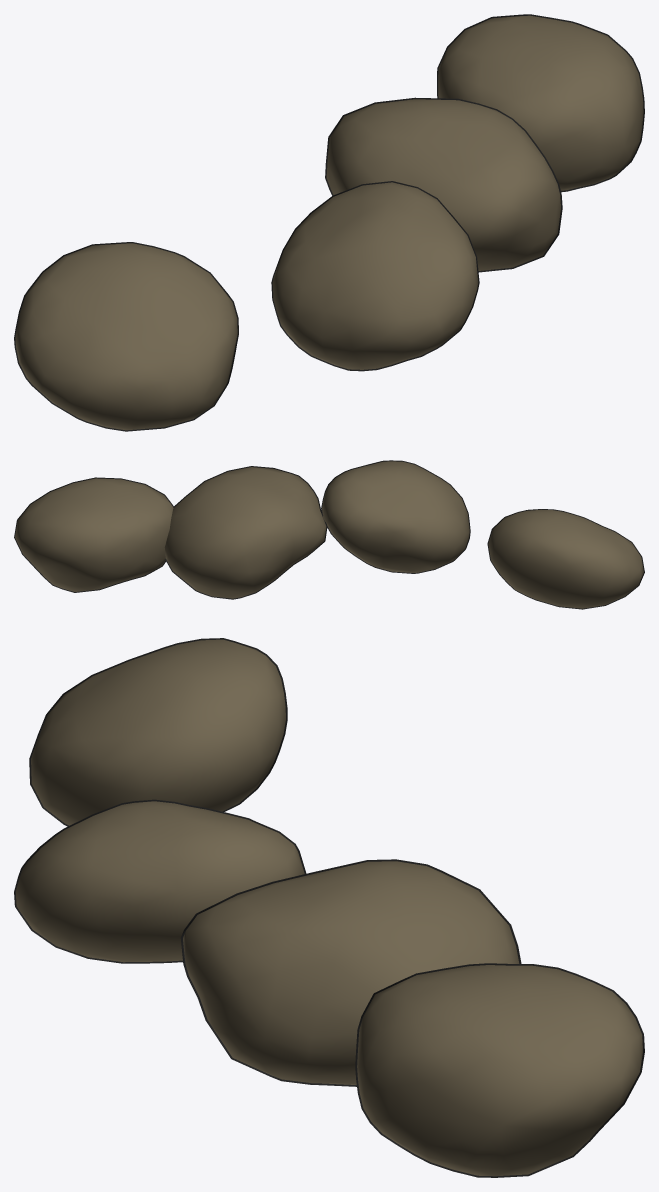
The model's file is lettucerocks.fbx.
The picture shows the model from 3 angles, top to bottom: view 1: azimuth 30°, elevation 25°; view 2: azimuth 150°, elevation 25°; view 3: azimuth 270°, elevation 25°; orthographic projection. The views are drawn at different scales.
Visible parts, largest first — view 1: Lettuce_Clod_10, Lettuce_Clod_11, Lettuce_Clod_12, Lettuce_Clod_00; view 2: Lettuce_Clod_12, Lettuce_Clod_00, Lettuce_Clod_11, Lettuce_Clod_10; view 3: Lettuce_Clod_00, Lettuce_Clod_12, Lettuce_Clod_10, Lettuce_Clod_11.
Part boxes in pixels (x1,y1,x2,y2): Lettuce_Clod_10: (14,242,238,431); Lettuce_Clod_11: (271,181,479,371); Lettuce_Clod_12: (325,97,562,272); Lettuce_Clod_00: (437,14,644,192); Lettuce_Clod_12: (164,466,327,599); Lettuce_Clod_00: (14,477,174,592); Lettuce_Clod_11: (321,460,470,573); Lettuce_Clod_10: (487,509,644,609); Lettuce_Clod_00: (355,963,644,1177); Lettuce_Clod_12: (180,859,521,1086); Lettuce_Clod_10: (29,638,287,826); Lettuce_Clod_11: (14,799,306,963).
Size of what is drawn, in the model's own units: 139 by 27.71 by 82.85.
